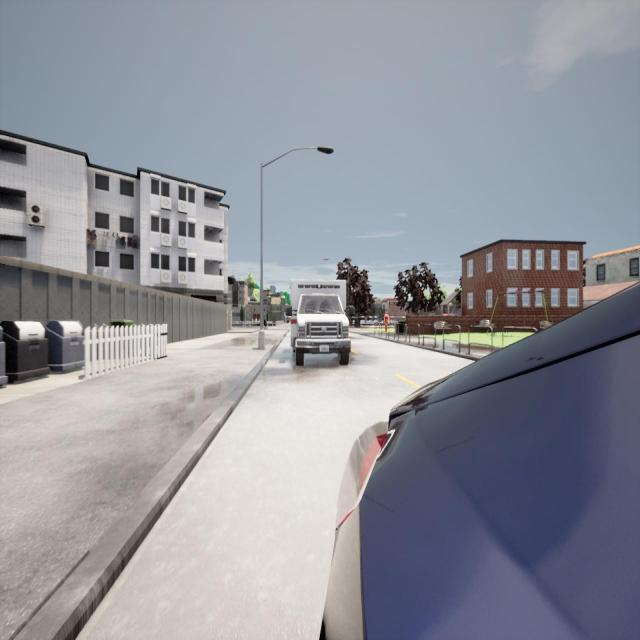Pedestrian: (384, 310, 389, 336)
Vehicle: (318, 283, 640, 640), (286, 280, 352, 366)
